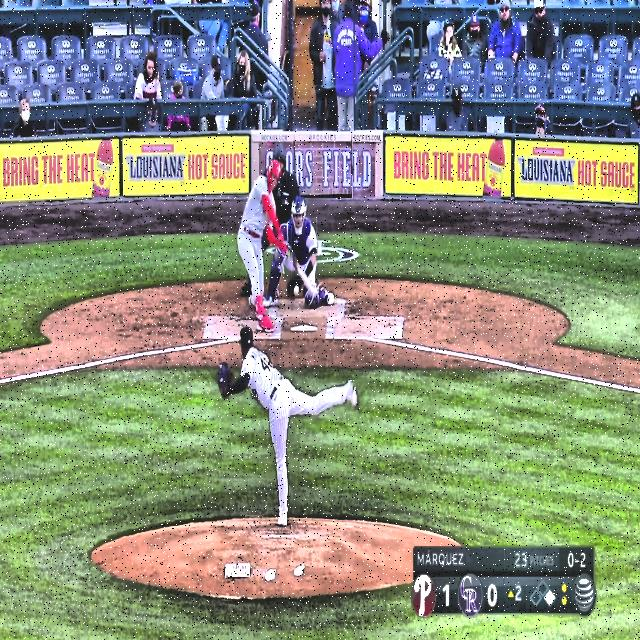baseball: (292, 284, 300, 298)
